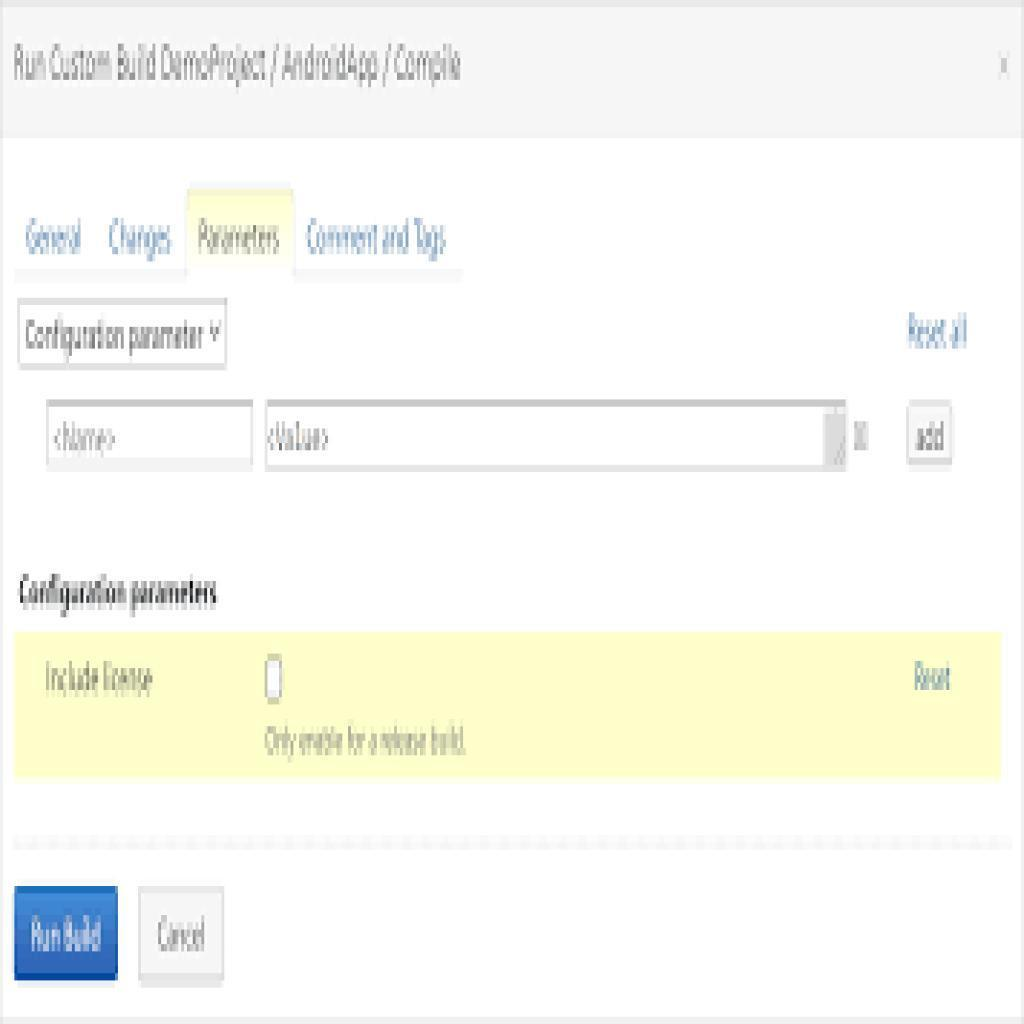button: (15, 885, 121, 982), (186, 191, 296, 273), (907, 402, 953, 465)
checkbox: (265, 658, 286, 705)
dropdown: (20, 297, 230, 370)
input: (267, 400, 848, 473), (47, 401, 254, 468)
label: (15, 572, 227, 618), (304, 218, 449, 260), (45, 658, 161, 701), (104, 215, 175, 262), (905, 307, 972, 354), (25, 218, 87, 262), (907, 661, 960, 701)
